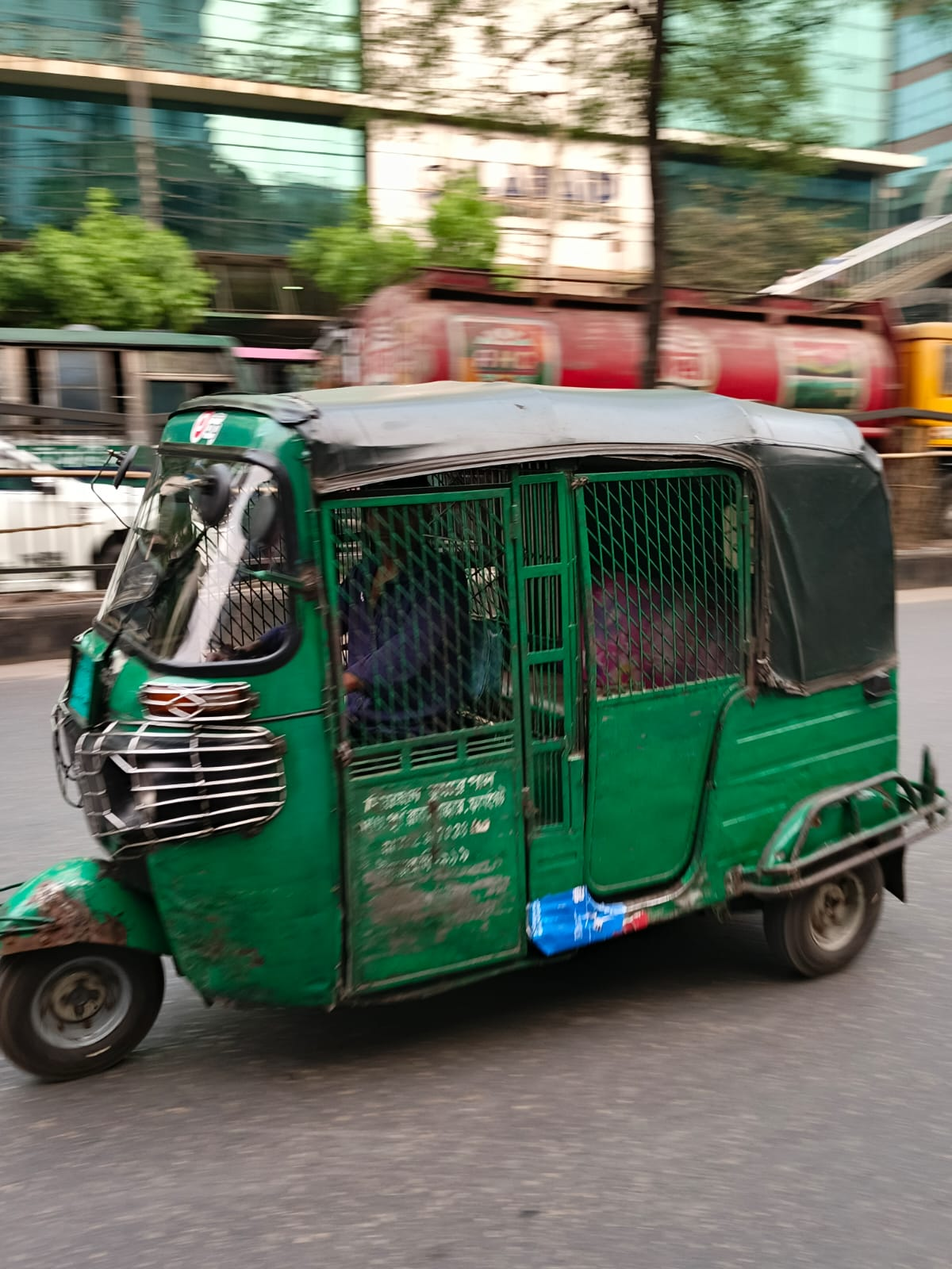cng: (20, 382, 926, 1091)
